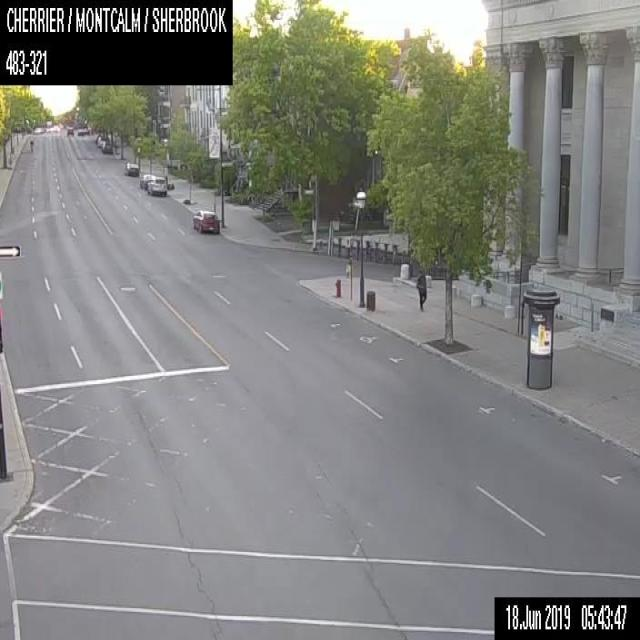cyclist: (29, 138, 33, 150)
pedestrian: (416, 269, 426, 310)
vehicle: (192, 210, 220, 233), (148, 176, 168, 196), (139, 173, 155, 190), (123, 162, 138, 175), (101, 141, 113, 153), (66, 127, 73, 135), (77, 128, 83, 135)
